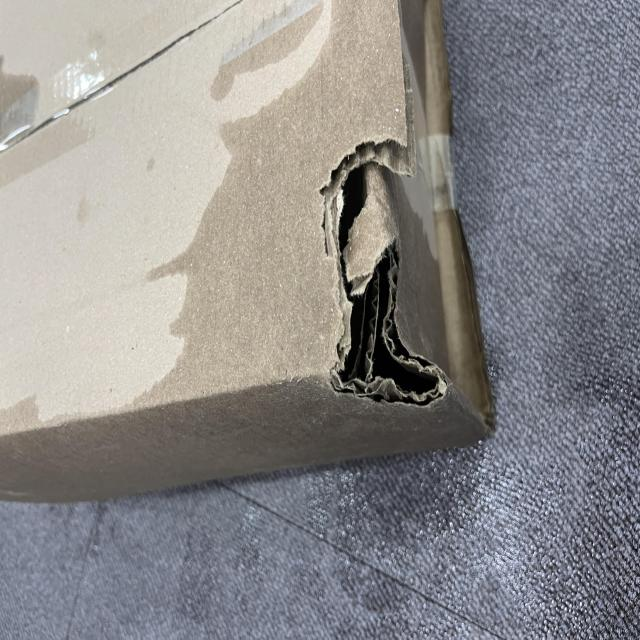wet: (160, 207, 480, 640)
